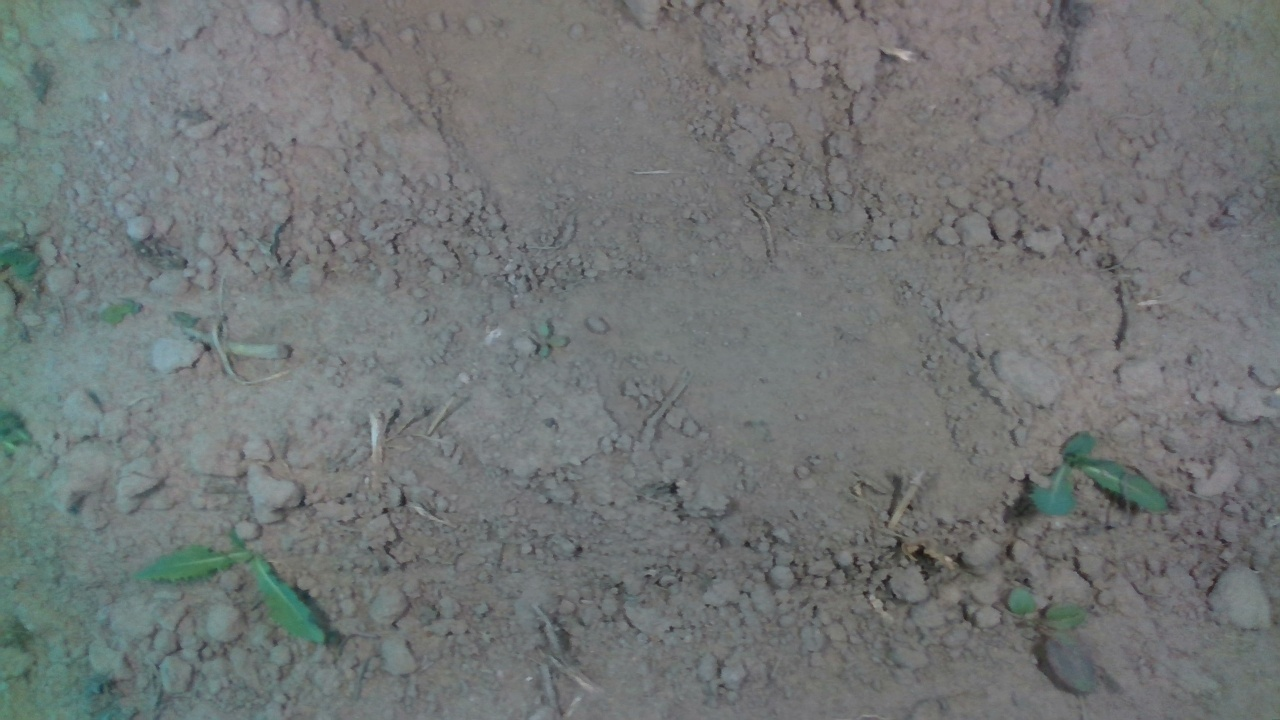weed: (136, 529, 326, 645), (1027, 429, 1167, 518), (1005, 585, 1100, 696)
